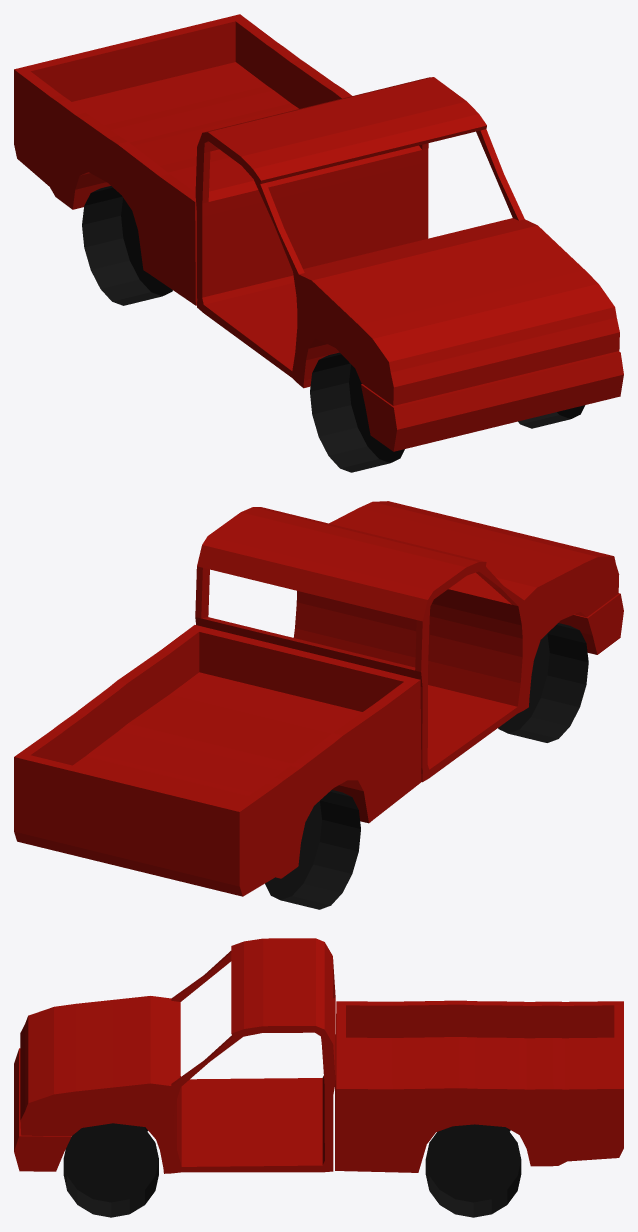
The model's file is truck.gltf.
3 views of the same model, one above another, from view 1: azimuth 30°, elevation 25°; view 2: azimuth 150°, elevation 25°; view 3: azimuth 270°, elevation 25° (orthographic). The views are drawn at different scales.
Parts seen in each view (by area): view 1: body, RR-wheel, FR-wheel, FL-wheel; view 2: body, RR-wheel, FR-wheel; view 3: body, FL-wheel, RL-wheel.
Boxes of the visible parts, x1=… form: body: x1=14, y1=14, x2=623, y2=451; RR-wheel: x1=82, y1=186, x2=172, y2=305; FR-wheel: x1=310, y1=352, x2=404, y2=472; FL-wheel: x1=518, y1=405, x2=585, y2=428; body: x1=14, y1=501, x2=623, y2=896; RR-wheel: x1=265, y1=790, x2=360, y2=909; FR-wheel: x1=498, y1=623, x2=588, y2=742; body: x1=14, y1=938, x2=623, y2=1173; FL-wheel: x1=63, y1=1123, x2=158, y2=1217; RL-wheel: x1=425, y1=1124, x2=521, y2=1217.
Bounding box in the file's own units: 2.59 × 2.65 × 7.6.
